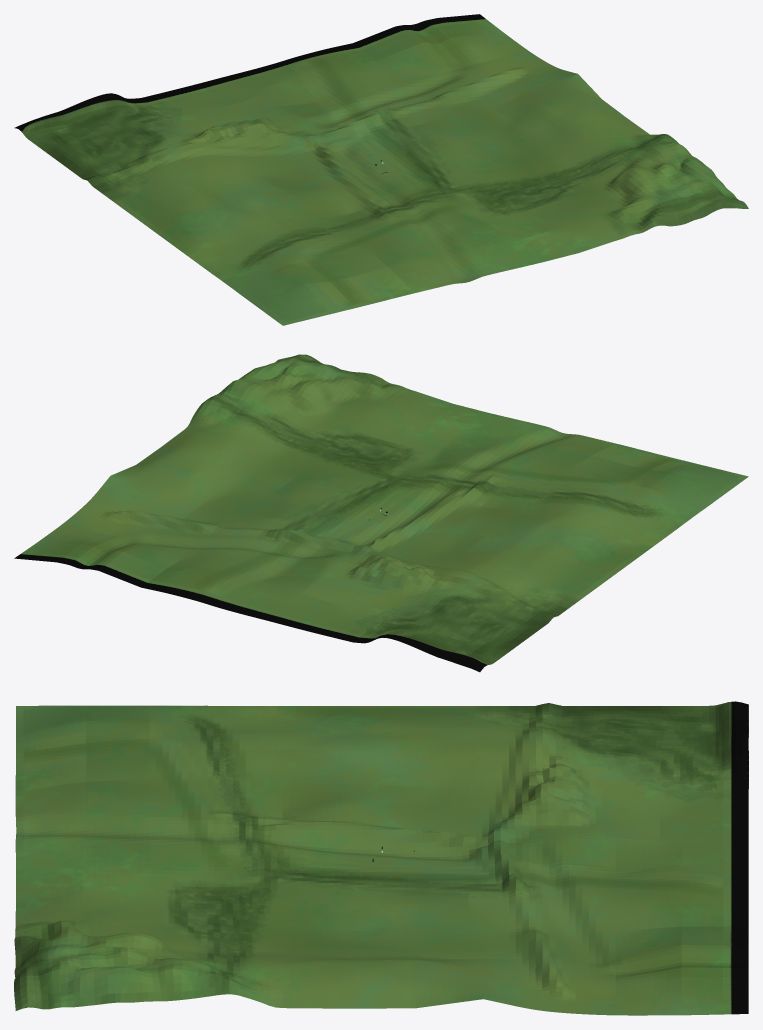
Rendered from triangulation_test_2.gltf.
3 views of the same model, one above another, from view 1: azimuth 30°, elevation 25°; view 2: azimuth 150°, elevation 25°; view 3: azimuth 270°, elevation 25° (orthographic). The views are drawn at different scales.
Visible parts, largest first — view 1: Plane; view 2: Plane; view 3: Plane.
Part boxes in pixels (x1,y1,x2,y2): Plane: [14, 14, 748, 325]; Plane: [14, 354, 748, 672]; Plane: [14, 701, 748, 1015].
Size of the model in its own units: 997 by 64.32 by 995.
Materials: 1 (1 with a texture image).
